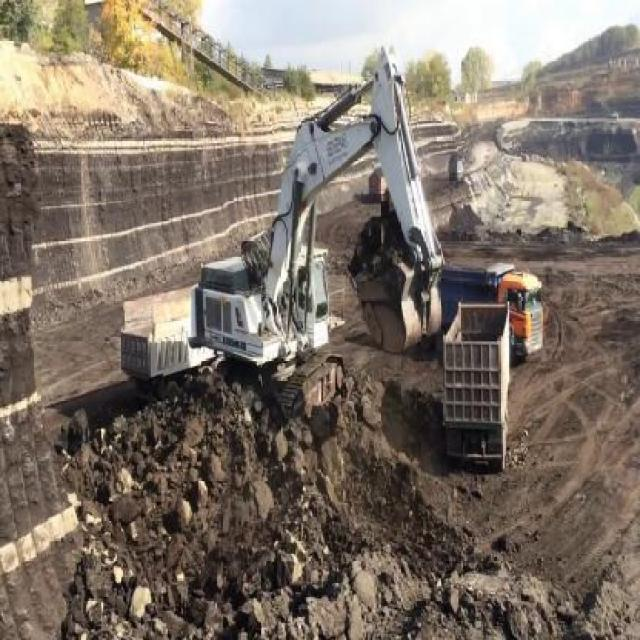Dump Truck: (440, 293, 514, 465), (116, 291, 219, 387), (445, 259, 544, 356)
Excavator: (190, 39, 444, 428)
